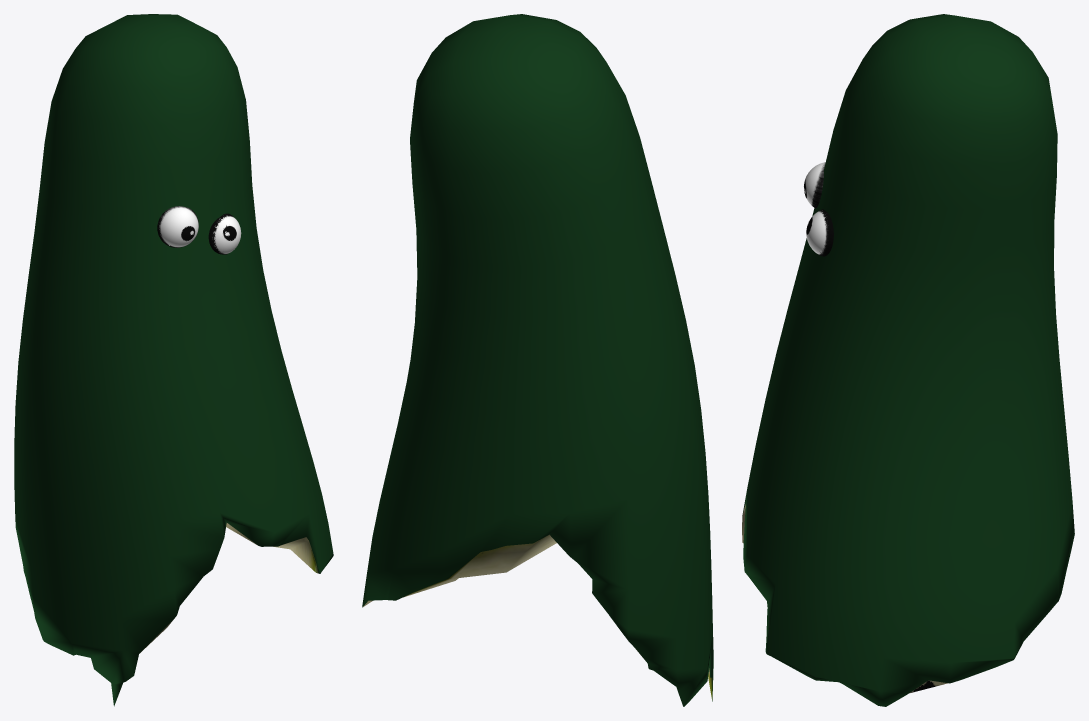
Rendered from Zuchini Kapput 1.fbx.
3 renders of one model, left to right at view 1: azimuth 30°, elevation 25°; view 2: azimuth 150°, elevation 25°; view 3: azimuth 270°, elevation 25°, orthographic. The views are drawn at different scales.
Visible parts, largest first — view 1: Sphere.005, Sphere.012, Sphere.011; view 2: Sphere.005; view 3: Sphere.005, Sphere.011, Sphere.012.
Boxes of the visible parts, x1,y1,x2,y2 form: Sphere.005: (14, 14, 333, 706); Sphere.012: (157, 206, 198, 247); Sphere.011: (208, 213, 241, 254); Sphere.005: (362, 14, 713, 706); Sphere.005: (742, 14, 1074, 706); Sphere.011: (806, 209, 833, 256); Sphere.012: (804, 162, 825, 208).
Bounding box in the file's own units: 185 × 401 × 175.
